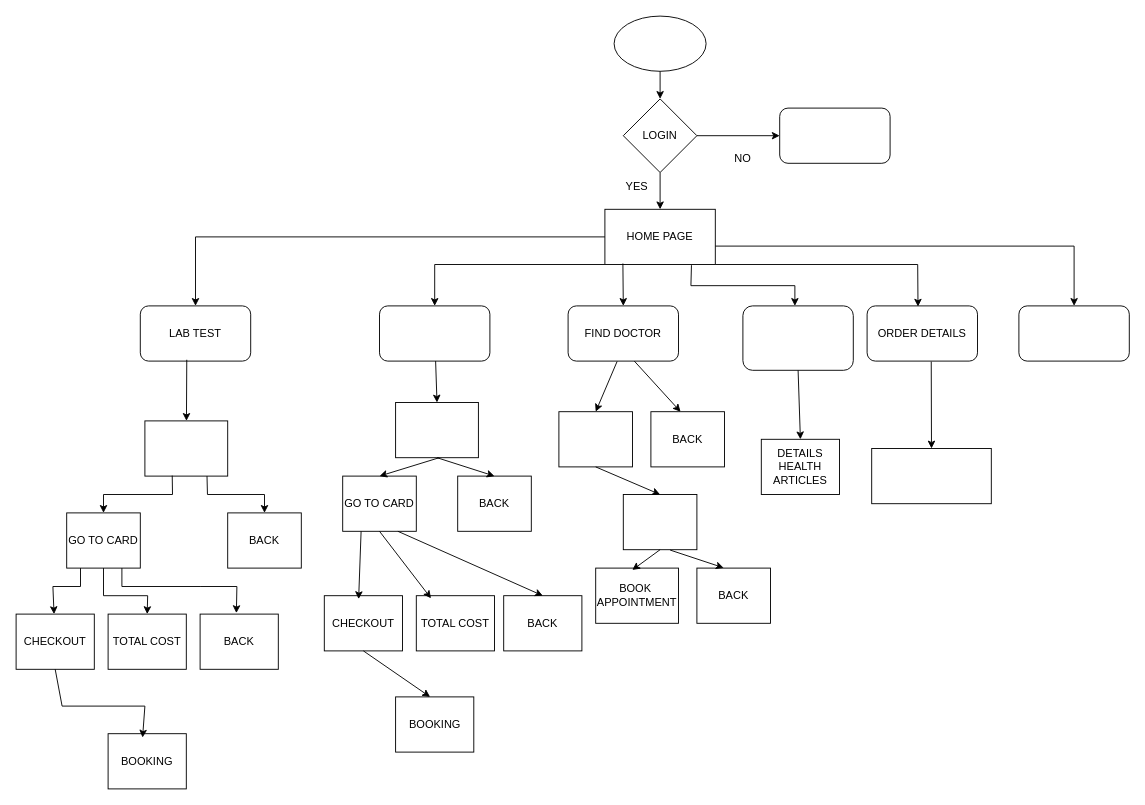
The diagram is 1145 pixels wide and 805 high, and some of its shapes have lost their labels. The shapes that lost their labels are listed below. From the top down, each one's centre as x and y in pixels, then its label:
At (659,43): "Customer".
At (834,135): "REGISTRATION".
At (434,333): "BUY MEDICINE".
At (797,337): "HEALTH ARTICLE".
At (1073,333): "LOGOUT".
At (186,448): "LAB TEST AND PACKAGES".
At (436,430): "MEDICINE".
At (595,439): "ALL DOCTOR".
At (931,476): "SHOW OLL ORDER DETILS".
At (659,522): "DETAILS".
